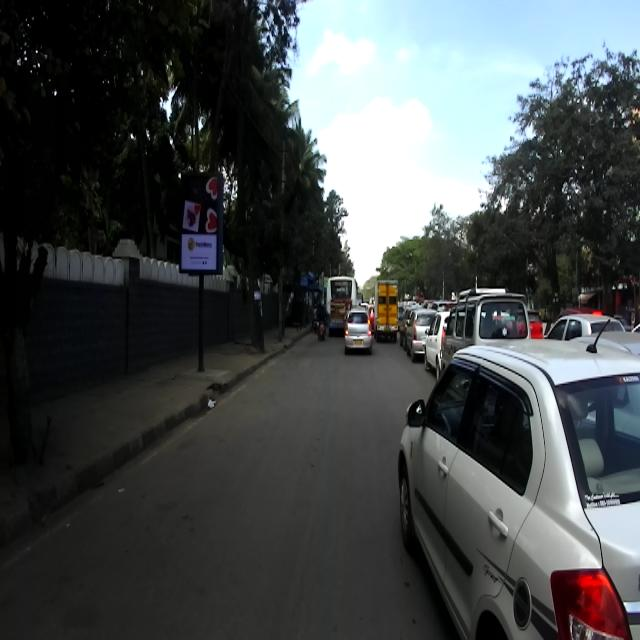barrier ahead at: (178, 168, 224, 396)
car ahead at: (402, 342, 640, 640)
